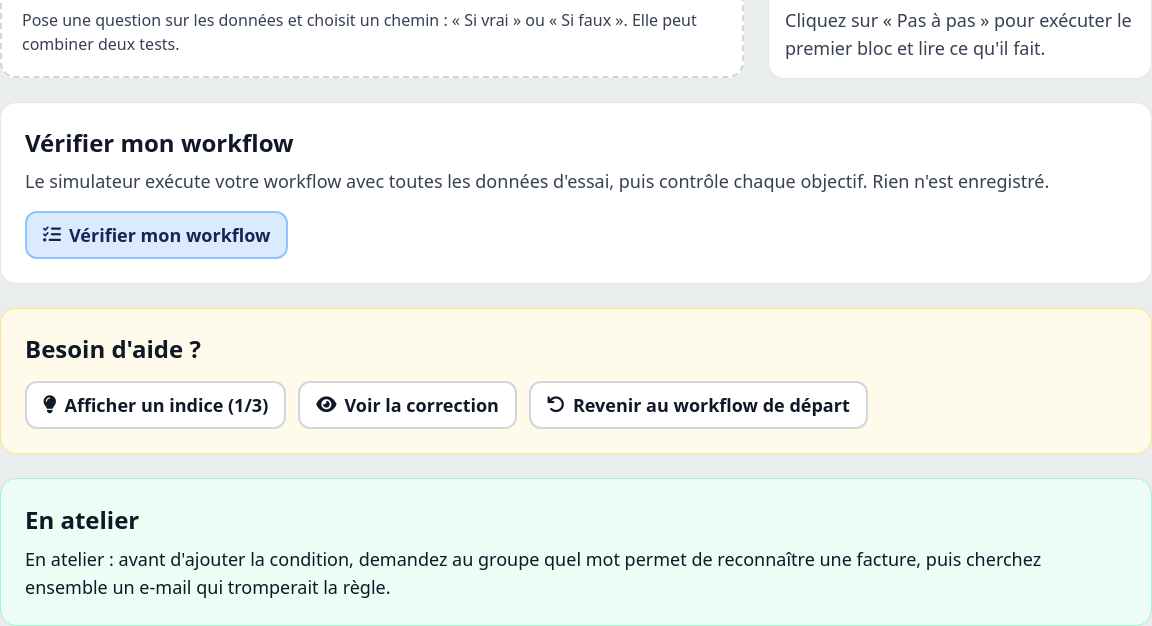
Test: lecteur de laboratoire › affiche indices et correction à la demande
(page scrolled)
Step 1. Click the button with test id "indice" → click(156, 405), box [25,381,286,429]
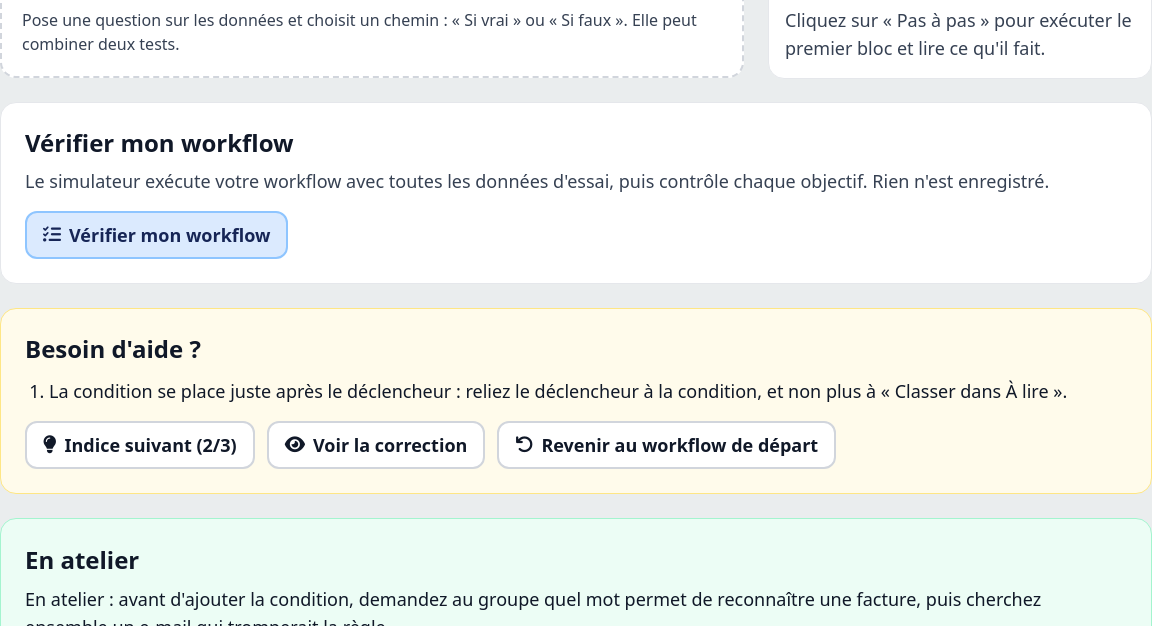
Step 2. Click the button with test id "voir-correction" → click(376, 445), box [267,421,485,469]
(page scrolled)
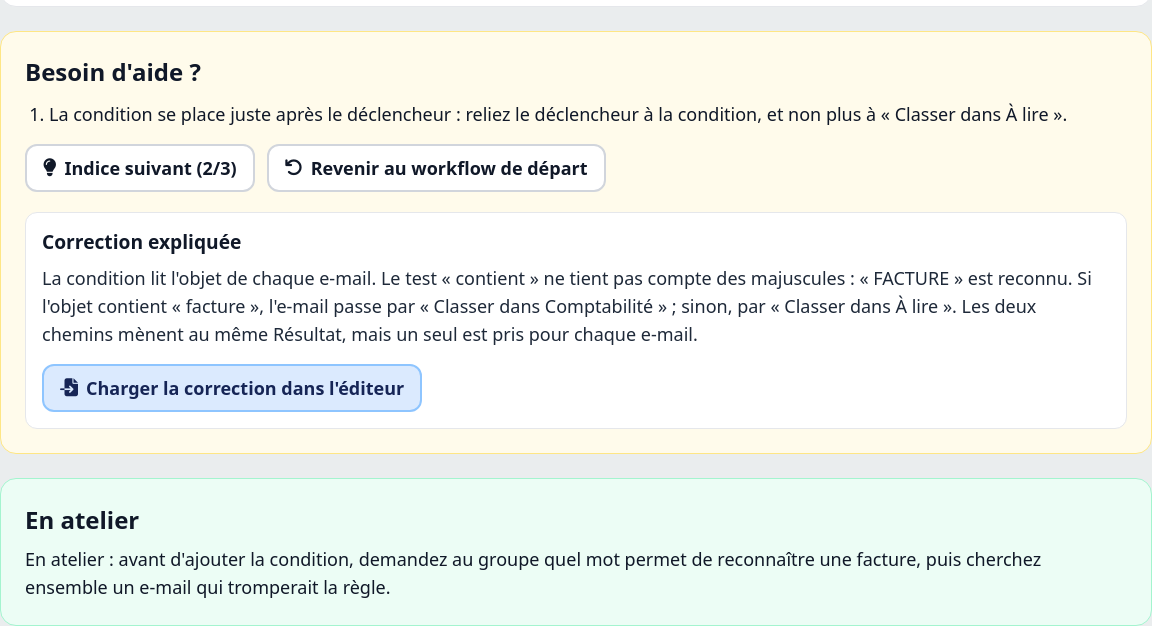
Expected: the element with test id "correction" shows "ne tient pas compte des majuscules", [42,266,1092,346]
Step 3. Click the button with test id "charger-correction" → click(232, 388), box [42,364,422,412]
(page scrolled)
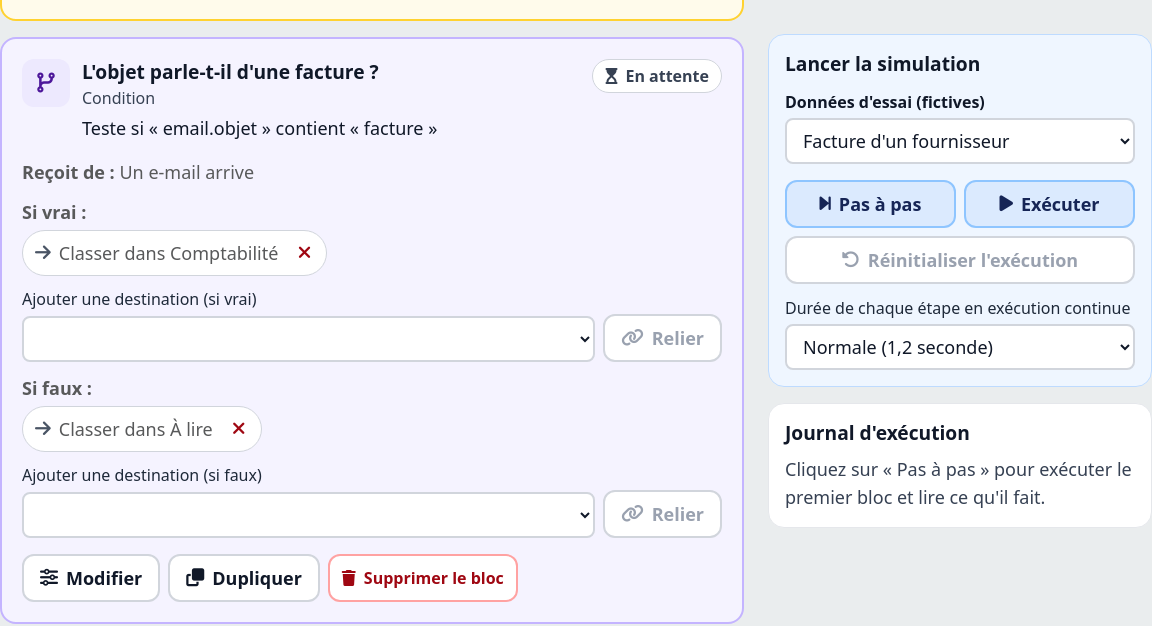
Expected: the element with test id "bloc-est-facture" is shown
